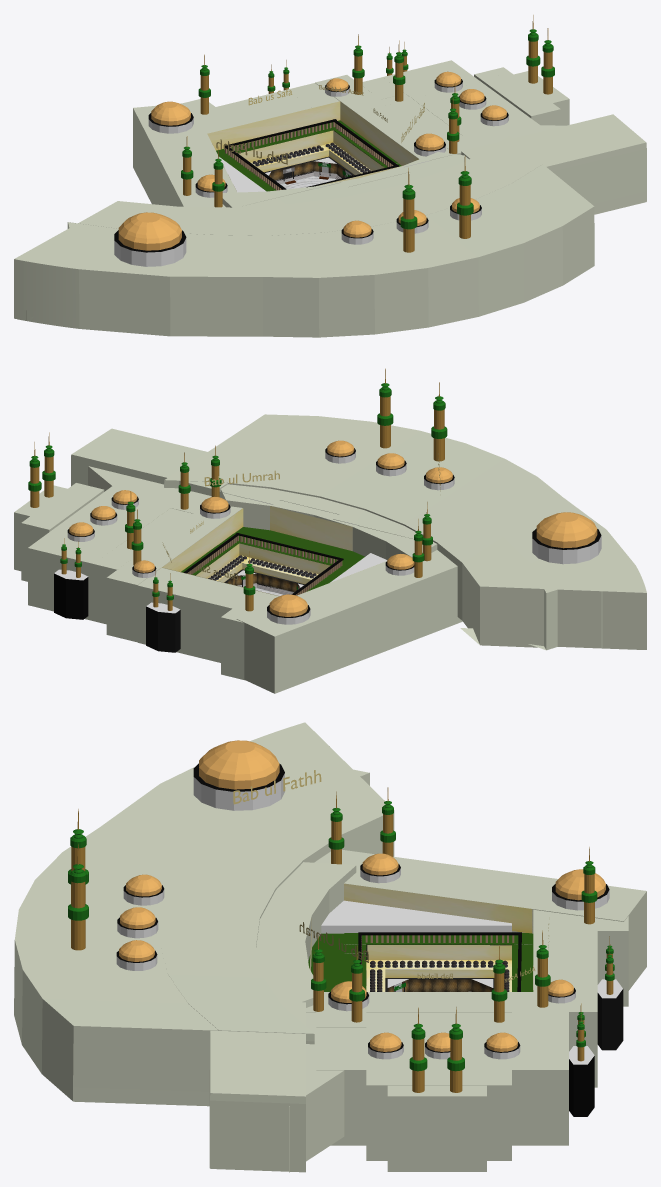
File: MKHMKHMKHUmair.fbx
3 views of the same model, one above another, from view 1: azimuth 30°, elevation 25°; view 2: azimuth 150°, elevation 25°; view 3: azimuth 270°, elevation 25° (orthographic). The views are drawn at different scales.
Parts seen in each view (by area): view 1: Ground and Building, Gunbad.008, download.014, Grill, download.012, Gunbad.001, download, Minar.006, Minar.009, Gunbad.004, Minar.003, Minar.004 (+11 smaller); view 2: Ground and Building, Gunbad.008, download.015, Grill, Out body, Out body.001, download.012, Gunbad.001, download.001, Minar.006, Minar.009, Gunbad.007 (+7 smaller); view 3: Ground and Building, Gunbad.008, download.013, download.002, Out body, Out body.001, Grill, Gunbad.001, Minar.009, Gunbad.006, Gunbad.004, Gunbad.007 (+16 smaller).
Part boxes in pixels (x1,y1,x2,y2): Ground and Building: (14, 60, 646, 337); Gunbad.008: (114, 212, 186, 266); download.014: (207, 101, 340, 150); Grill: (225, 119, 399, 190); download.012: (340, 101, 418, 165); Gunbad.001: (148, 101, 193, 133); download: (238, 130, 333, 162); Minar.006: (400, 168, 417, 252); Minar.009: (457, 156, 473, 238); Gunbad.004: (341, 220, 373, 244); Minar.003: (541, 28, 554, 94); Minar.004: (526, 15, 540, 83); Ground and Building: (14, 414, 646, 693); Gunbad.008: (532, 512, 601, 564); download.015: (270, 506, 352, 550); Grill: (183, 533, 343, 595); Out body: (146, 602, 180, 652); Out body.001: (54, 569, 88, 619); download.012: (160, 508, 243, 571); Gunbad.001: (267, 594, 310, 624); download.001: (239, 543, 330, 574); Minar.006: (431, 382, 447, 461); Minar.009: (377, 368, 393, 448); Gunbad.007: (325, 440, 355, 463); Ground and Building: (14, 722, 646, 1172); Gunbad.008: (193, 740, 284, 810); download.013: (344, 883, 532, 933); download.002: (367, 945, 511, 960); Out body: (597, 979, 623, 1050); Out body.001: (569, 1046, 594, 1116); Grill: (358, 932, 521, 991); Gunbad.001: (552, 869, 609, 910); Minar.009: (68, 844, 88, 950); Gunbad.006: (117, 907, 158, 938); Gunbad.004: (123, 874, 164, 905); Gunbad.007: (116, 940, 157, 970).
Bounding box in the file's own units: 58207 × 15331 × 41829.
